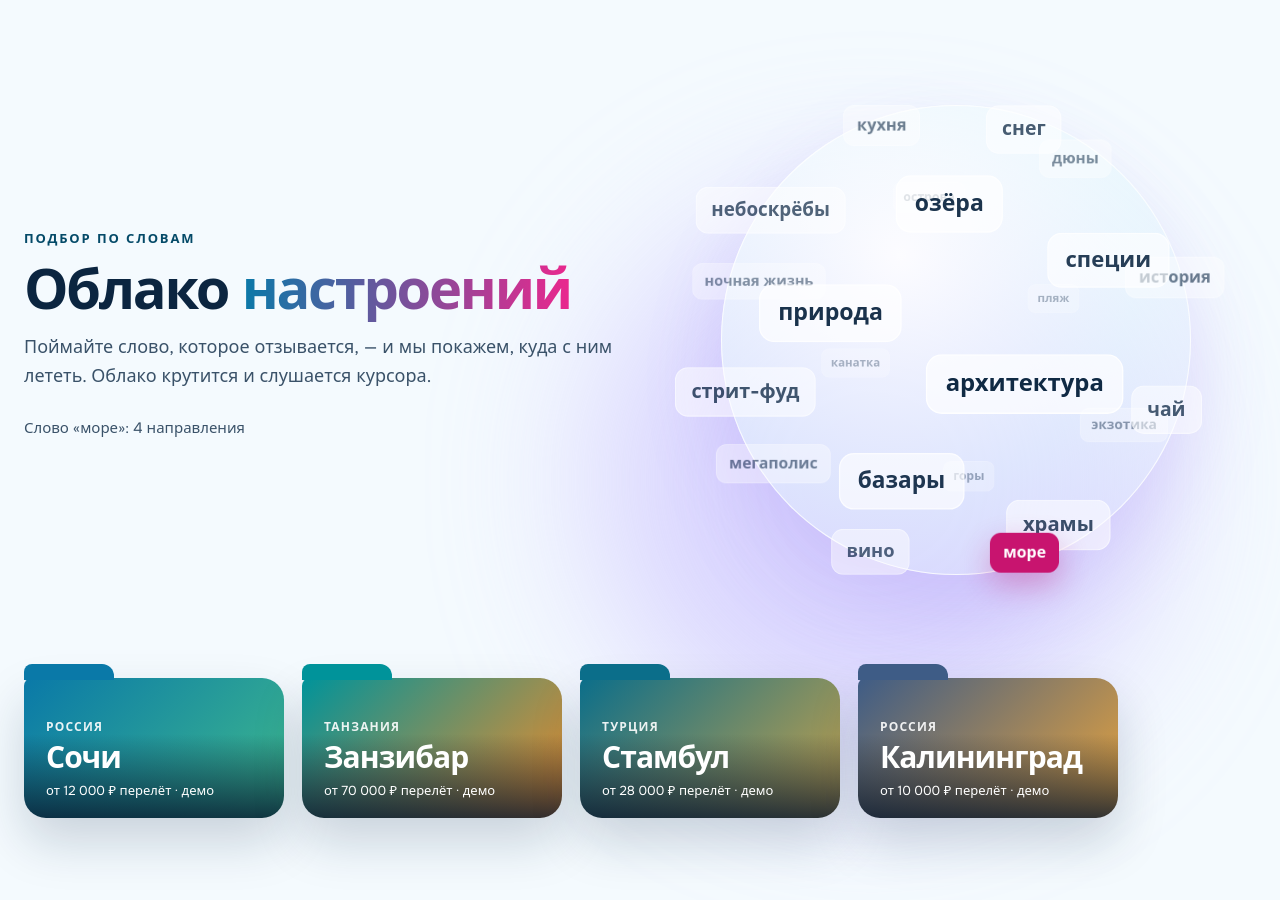
Test case: MoodCloud › switches tags and clears on second click
Step 1. Click the button "небоскрёбы" → click(771, 210), box [696, 187, 846, 234]
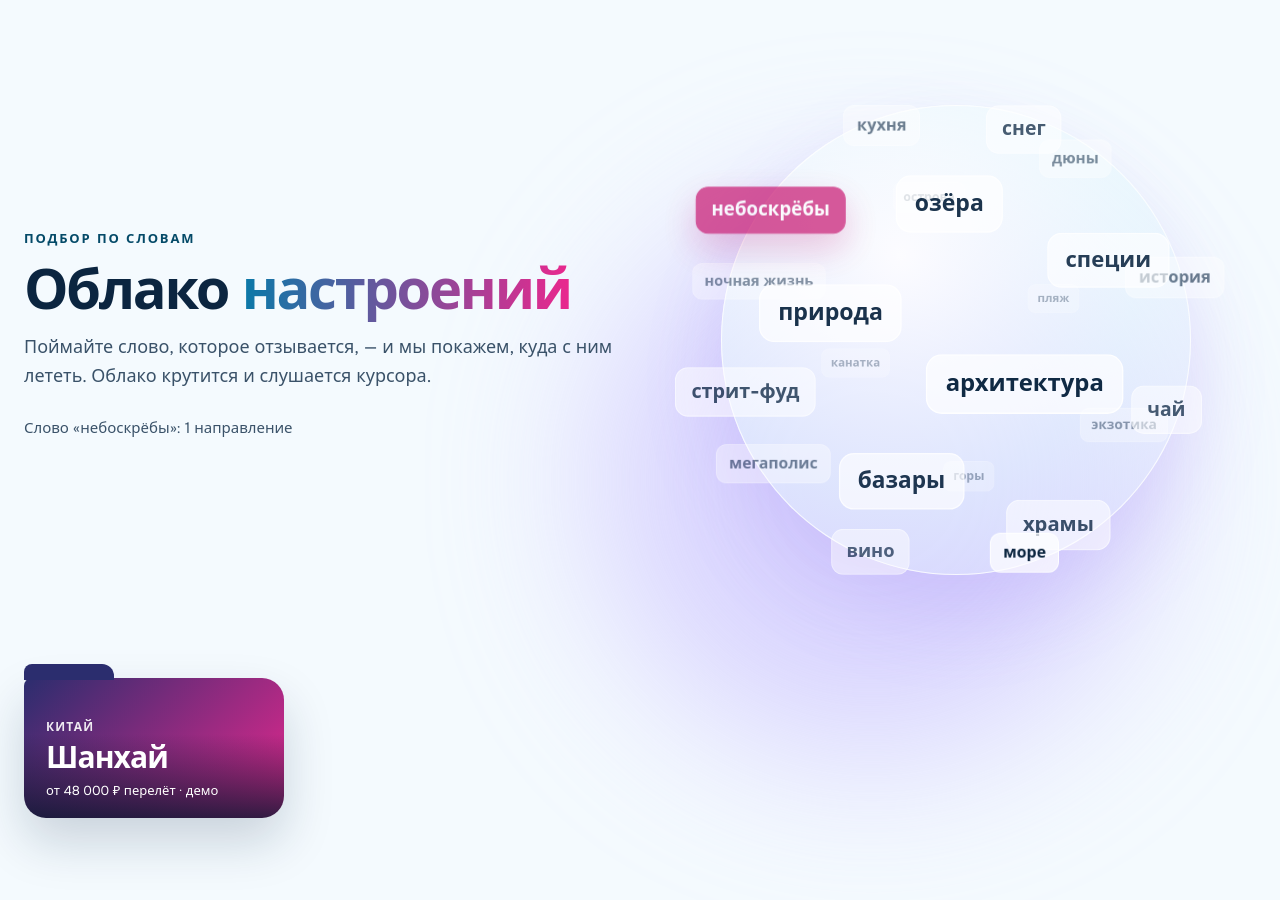
Expected: the text "Слово «небоскрёбы»: 1 направление" is shown, [24, 418, 293, 438]
Step 2. Click the button "небоскрёбы" → click(771, 210), box [696, 187, 846, 234]
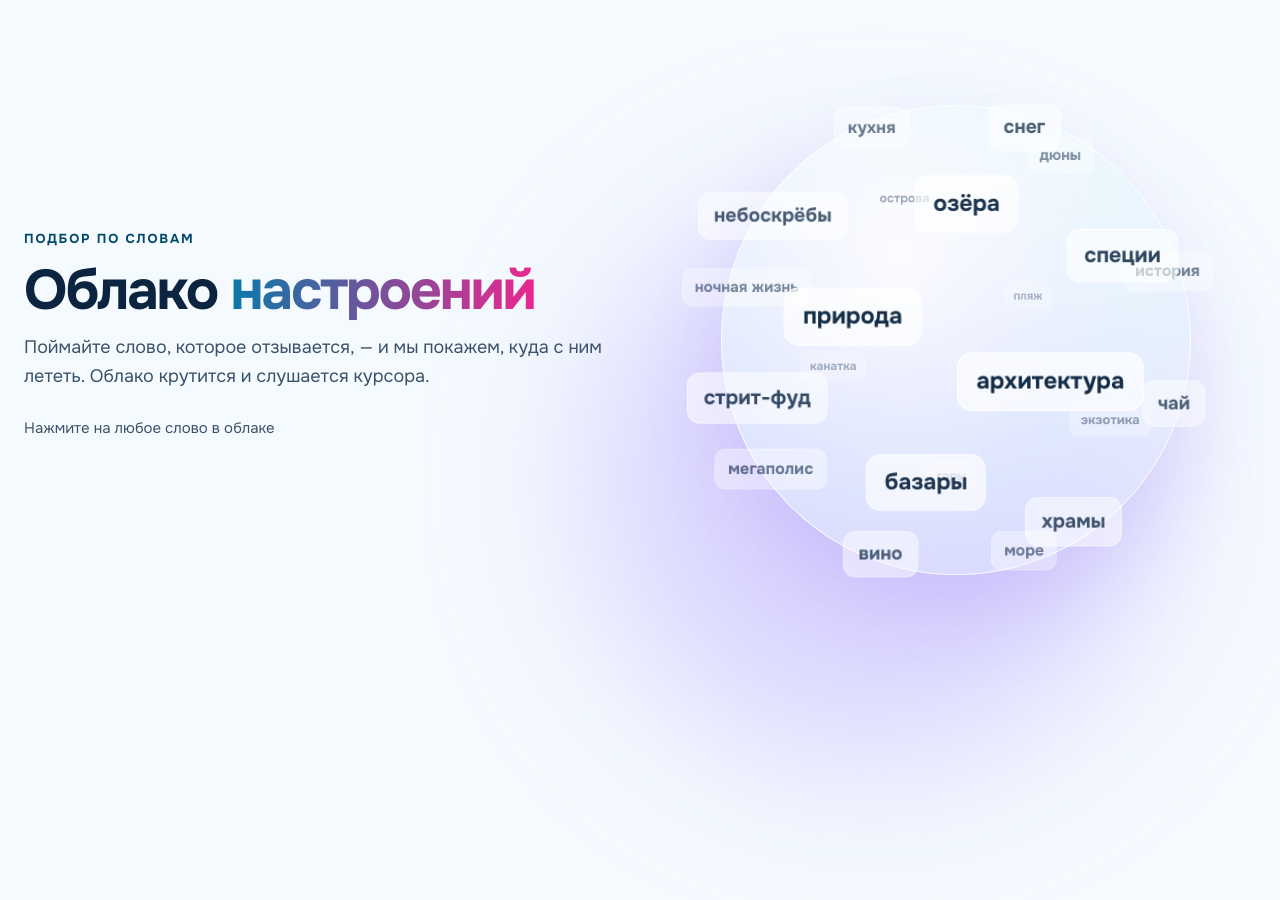
Expected: the text "Нажмите на любое слово в облаке" is shown, [24, 418, 275, 438]
